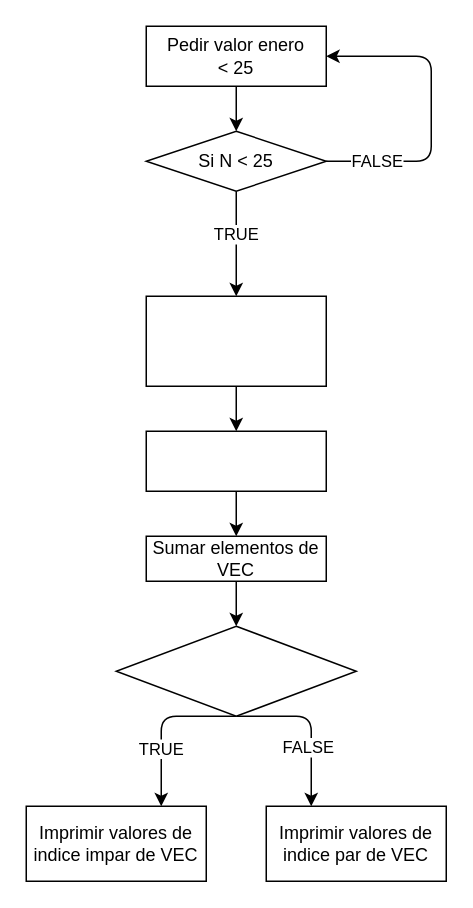
Some shapes in this 473 by 908 pixel diagram are drawn without their labels. The shapes that lost their labels are listed below. From the top down, each one's centre as x and y in pixels, then its label:
At point (235, 340): "Pedir cantidad de elementos para conjunto VEC".
At point (235, 460): "ingresar valores de conjunto VEC".
At point (235, 670): "Si sumaVEC > 0".
